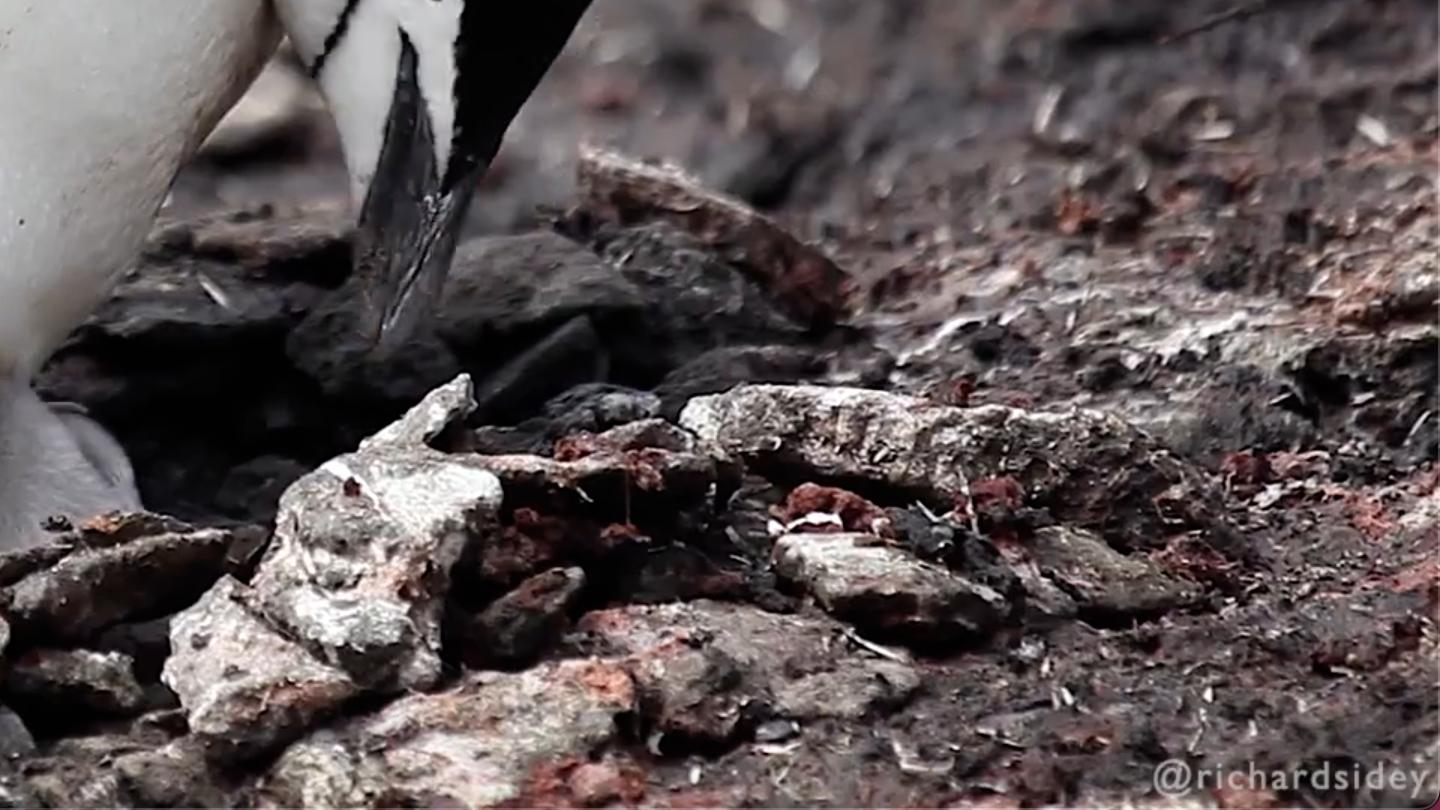Chinstrap Penguin: (0, 0, 706, 591)
